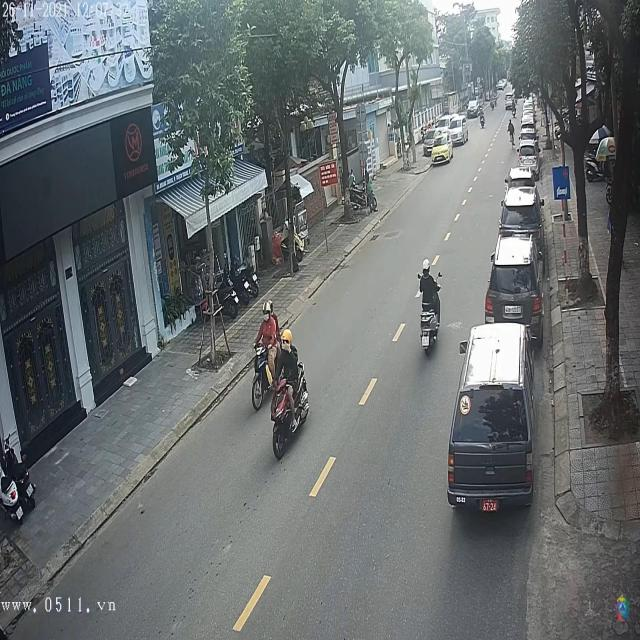car: (450, 325, 534, 511), (486, 232, 543, 332), (502, 185, 542, 229), (507, 167, 535, 189), (518, 142, 538, 166)
motorcycle: (268, 365, 310, 458), (248, 341, 276, 410), (419, 291, 442, 357)
